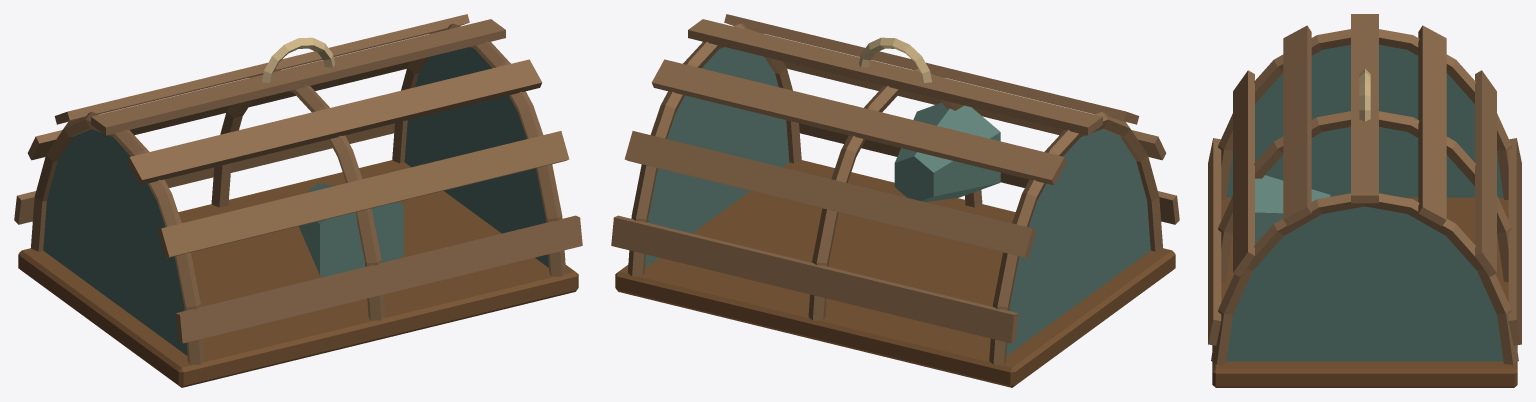
File: lobster-pot.glb
3 views of the same model, side by side, from view 1: azimuth 30°, elevation 25°; view 2: azimuth 150°, elevation 25°; view 3: azimuth 270°, elevation 25° (orthographic). The views are drawn at different scales.
Visible parts, largest first — view 1: lobster-pot; view 2: lobster-pot; view 3: lobster-pot.
Part boxes in pixels (<box>): lobster-pot: <box>14,14,582,387</box>; lobster-pot: <box>611,14,1179,387</box>; lobster-pot: <box>1208,14,1521,387</box>.
Bounding box in the file's own units: 0.62 × 0.36 × 0.4521.
